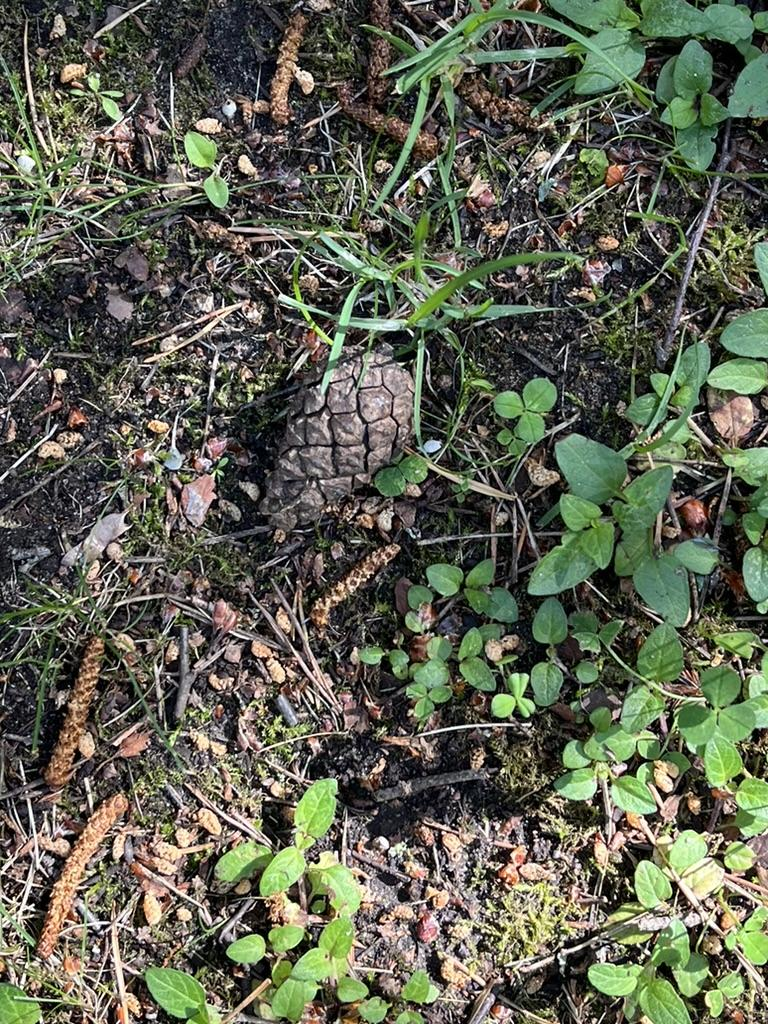pine: (236, 328, 424, 580)
